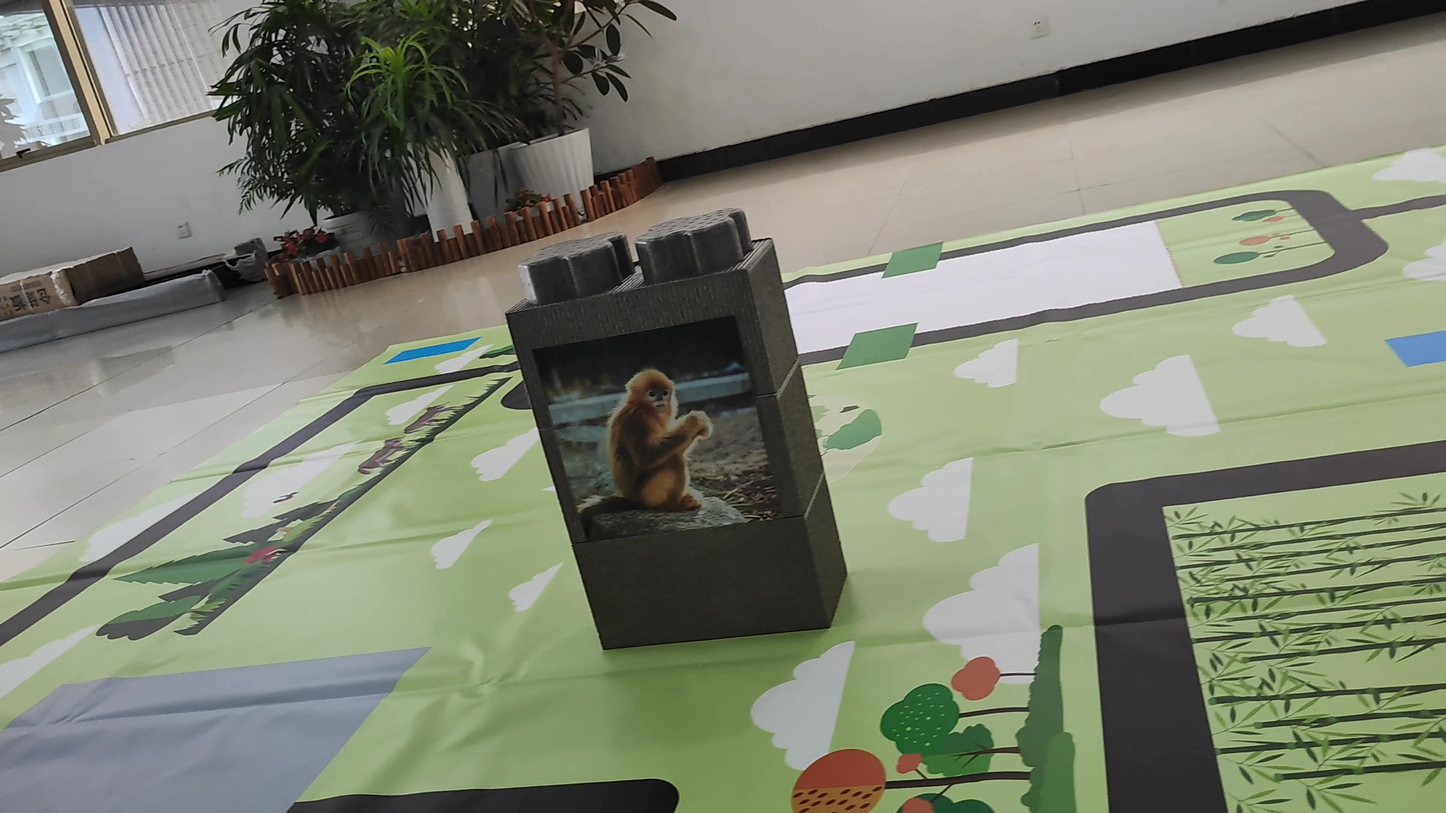monkey: (548, 349, 763, 535)
